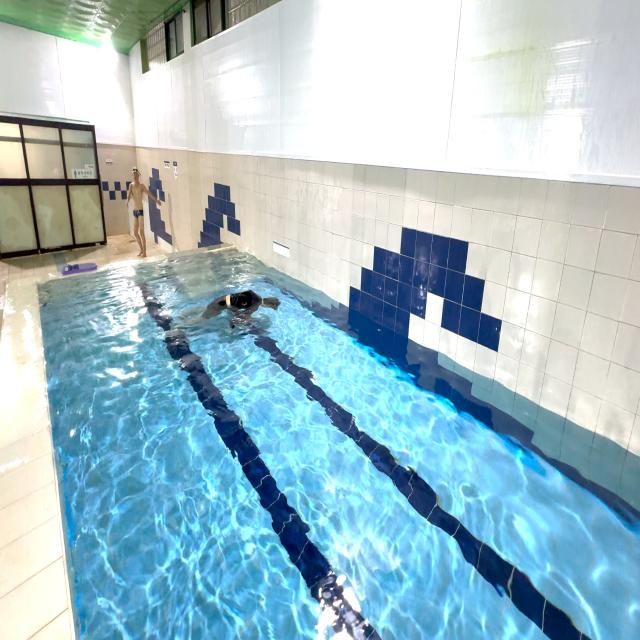Drowning: (175, 287, 285, 334)
